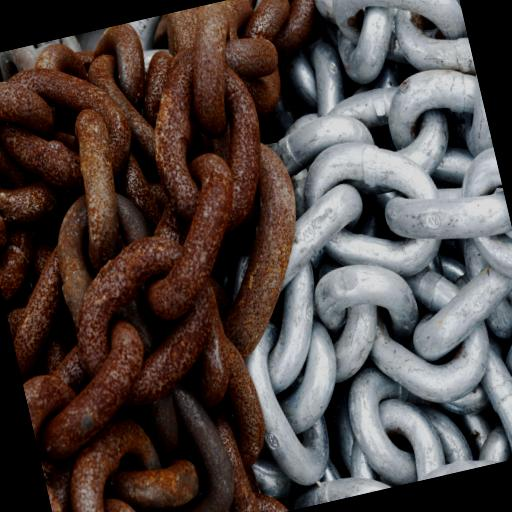segmentation: (0, 0, 322, 512), (222, 144, 296, 359), (79, 130, 118, 268), (0, 83, 54, 139)
